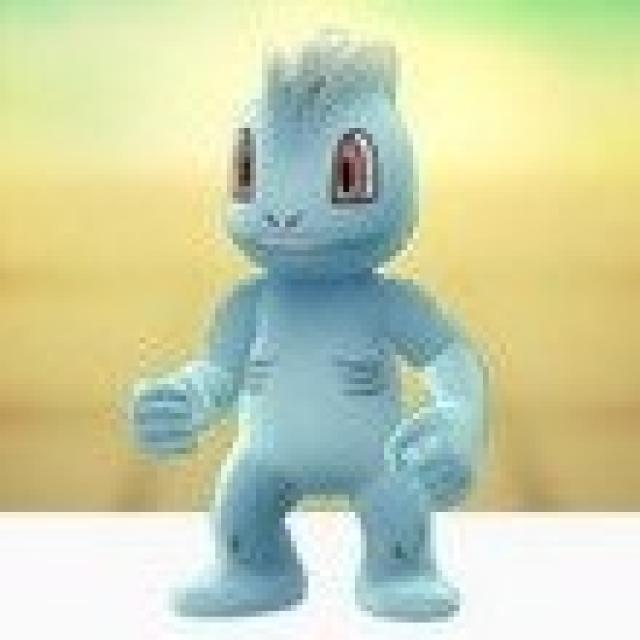Machop: (175, 46, 498, 607)
